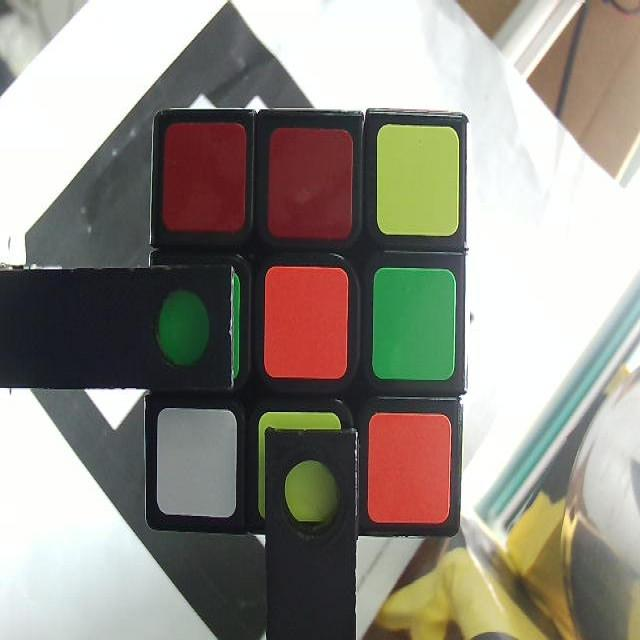g: (159, 268, 238, 374), (375, 269, 452, 374)
o: (368, 415, 451, 520), (267, 267, 347, 374)
r: (269, 128, 353, 234), (163, 120, 243, 226)
w: (157, 409, 235, 512)
y: (260, 412, 342, 518), (380, 128, 458, 229)
